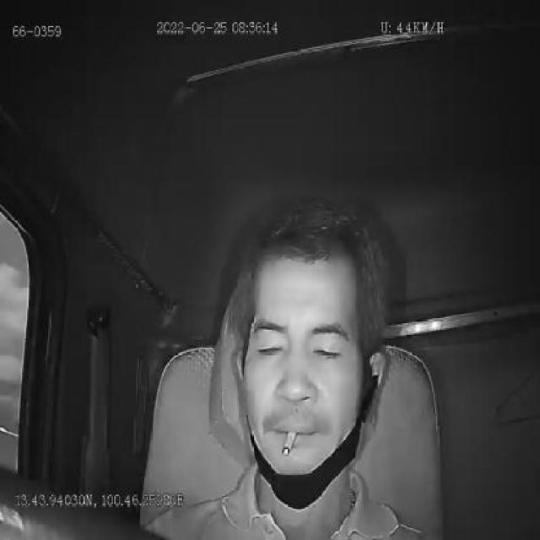smoking: (281, 431, 295, 457)
